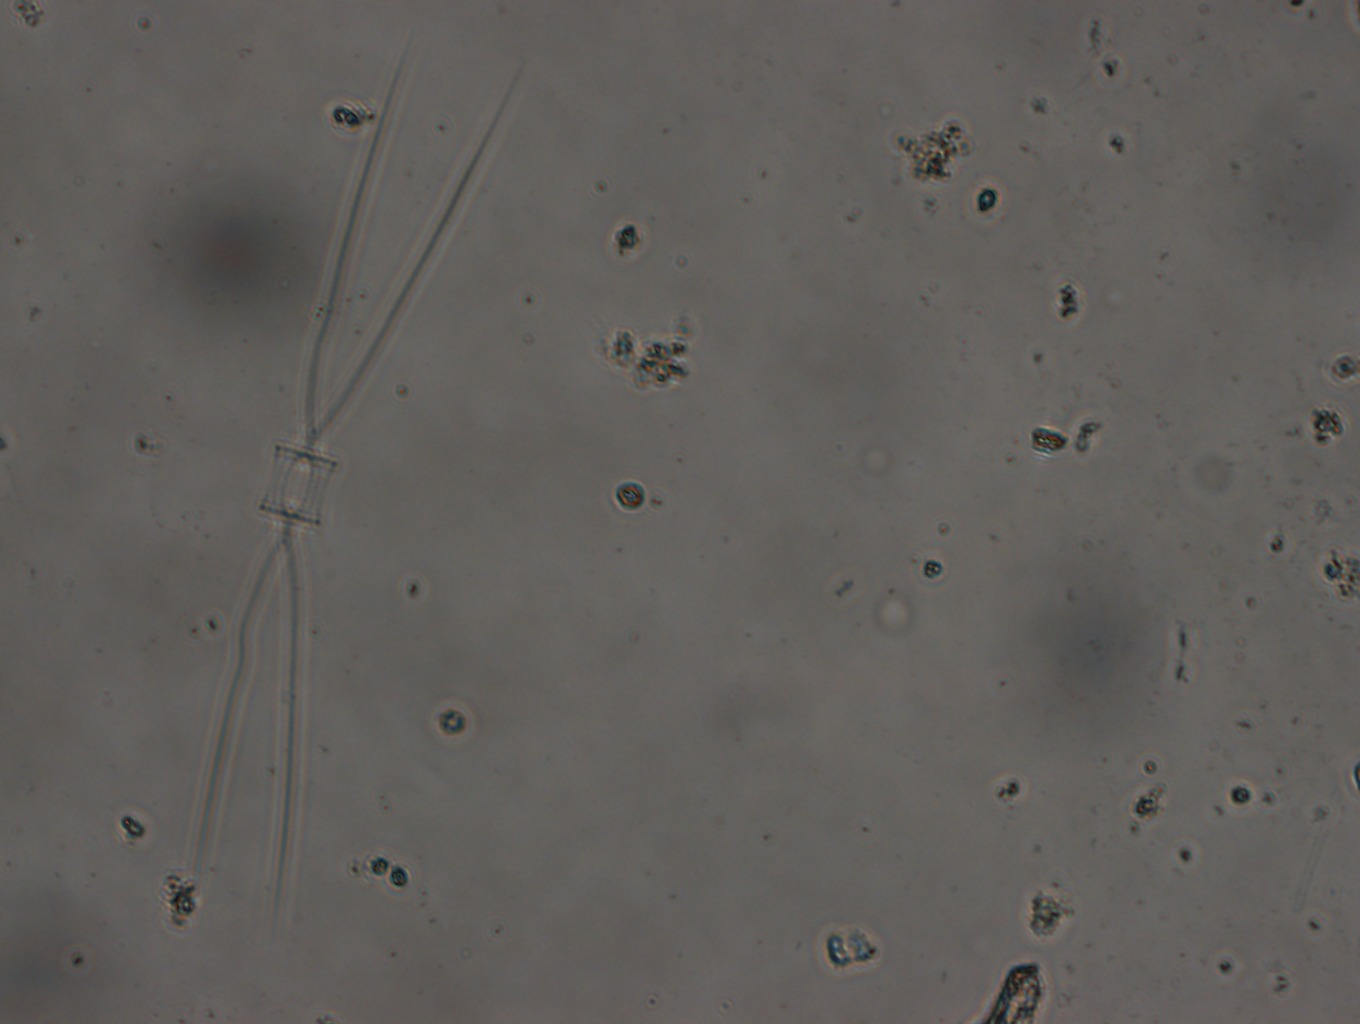chaetoceros: (169, 54, 535, 915)
